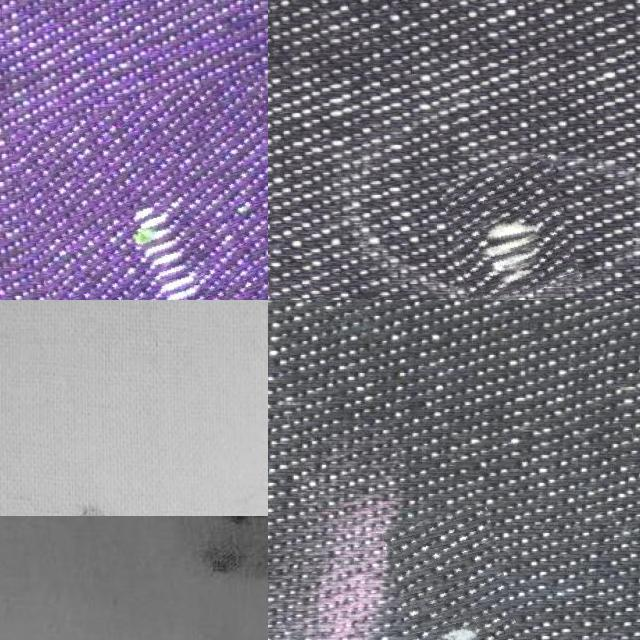Thread_other: (104, 515, 268, 638), (62, 493, 132, 515)
stains: (30, 82, 268, 300), (395, 508, 530, 640), (446, 162, 574, 300)
